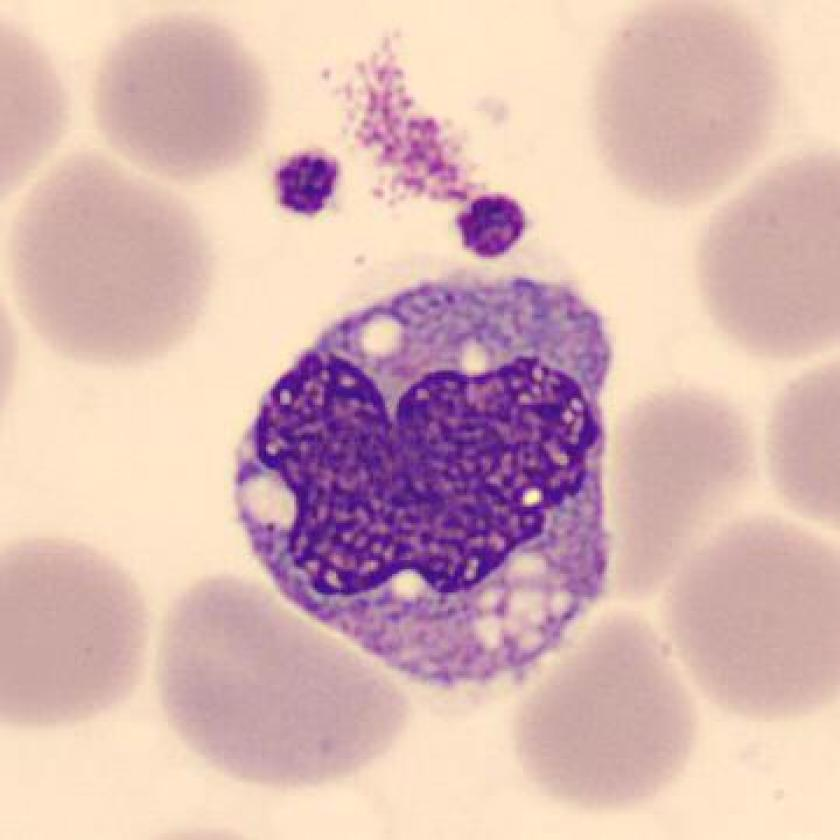monocyte: (216, 251, 654, 709)
